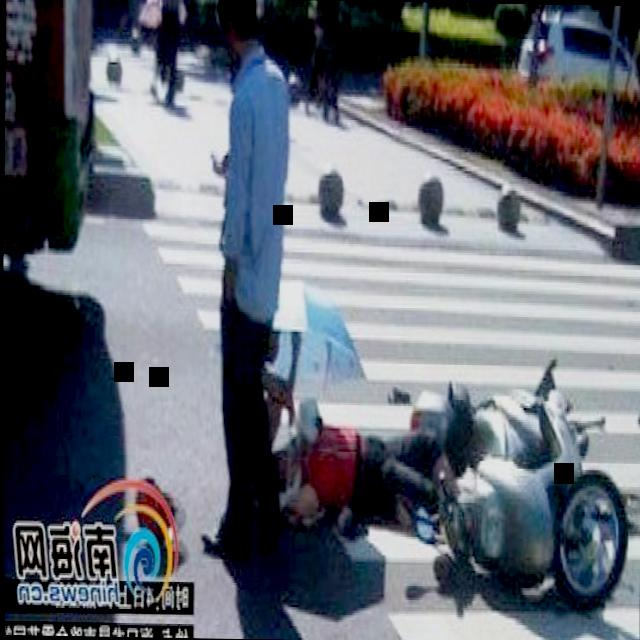Fall-Detected: (263, 368, 464, 542)
